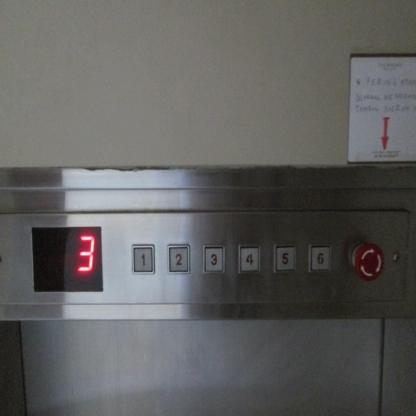1: (131, 244, 154, 274)
2: (166, 243, 190, 274)
3: (202, 244, 224, 272)
4: (238, 242, 260, 274)
5: (273, 245, 295, 272)
6: (309, 244, 331, 272)
led: (32, 226, 102, 292)
text: (348, 240, 386, 281)
